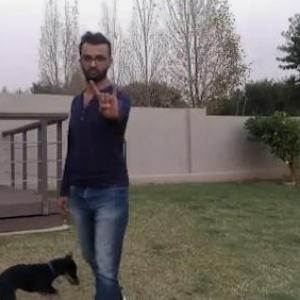takeoff-hand: (88, 72, 128, 121)
